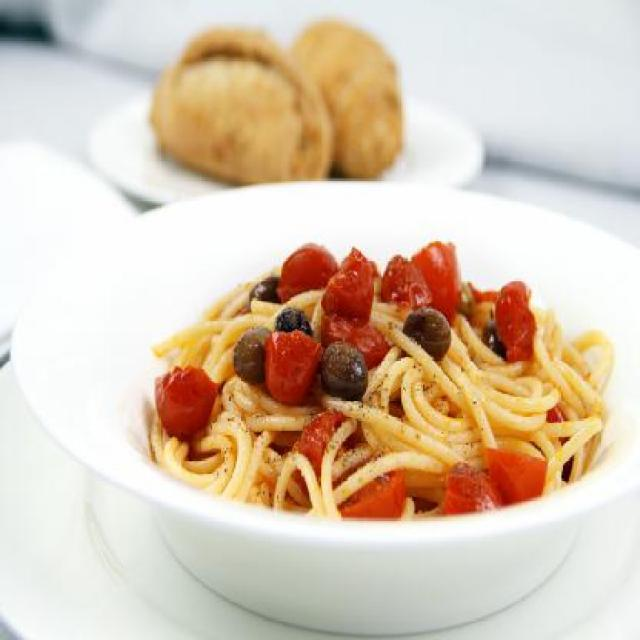Oil pasta: (147, 194, 616, 630)
